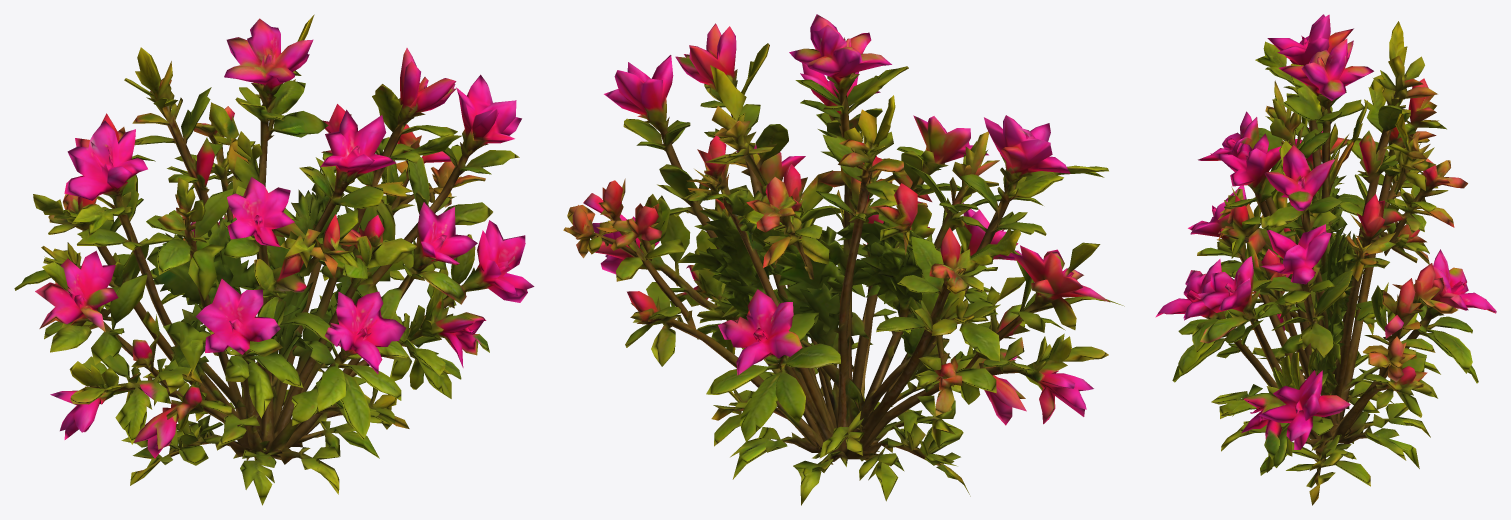
File: 26_粉色花灌木_2048.fbx
3 renders of one model, left to right at view 1: azimuth 30°, elevation 25°; view 2: azimuth 150°, elevation 25°; view 3: azimuth 270°, elevation 25°, orthographic. The views are drawn at different scales.
Parts seen in each view (by area): view 1: tripo_node_89bf0dd0; view 2: tripo_node_89bf0dd0; view 3: tripo_node_89bf0dd0.
Part boxes in pixels (x1,y1,x2,y2): tripo_node_89bf0dd0: [14, 14, 534, 505]; tripo_node_89bf0dd0: [563, 14, 1124, 505]; tripo_node_89bf0dd0: [1155, 14, 1496, 505].
Size of the model in its own units: 0.9785 by 0.8066 by 0.6111.
